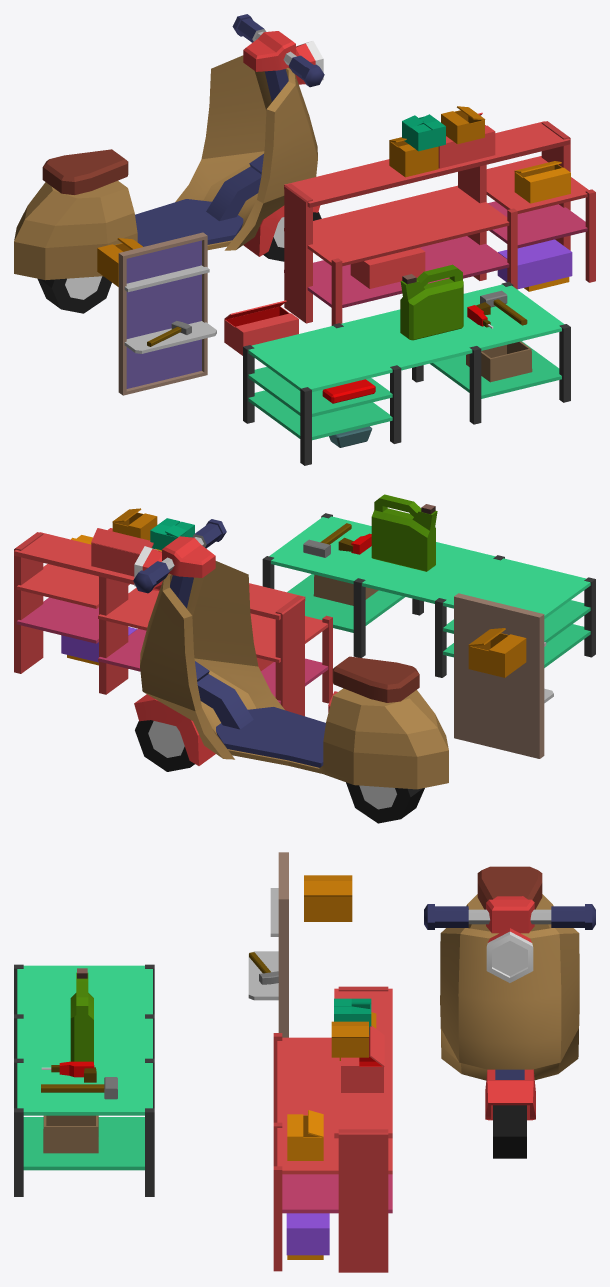
Rendered from Level12.fbx.
3 renders of one model, top to bottom at view 1: azimuth 30°, elevation 25°; view 2: azimuth 150°, elevation 25°; view 3: azimuth 270°, elevation 25°, orthographic. The views are drawn at different scales.
Visible parts, largest first — view 1: Bike, Box12, Tools_table, Tool_Stand3, Oil_Bottle6, Box8, Box5, Box7, Box11, pCube19, Box10, Box6 (+5 smaller); view 2: Bike, Box12, Tools_table, Tool_Stand3, Oil_Bottle6, Box13, Box6, Box, pCube19, Box9, Box5, Big_Hammer2 (+1 smaller); view 3: Bike, Tools_table, Box12, Tool_Stand3, Box13, pCube19, Box6, Oil_Bottle6, Box5, Box11, Box, Box9 (+2 smaller).
Boxes of the visible parts, left/top/right/bottom form: Bike: left=14, top=14, right=324, bottom=313; Box12: left=284, top=121, right=595, bottom=325; Tools_table: left=243, top=282, right=570, bottom=465; Tool_Stand3: left=118, top=232, right=216, bottom=395; Oil_Bottle6: left=400, top=264, right=463, bottom=340; Box8: left=224, top=300, right=298, bottom=355; Box5: left=497, top=239, right=572, bottom=289; Box7: left=350, top=247, right=425, bottom=288; Box11: left=514, top=161, right=570, bottom=203; pCube19: left=466, top=341, right=532, bottom=382; Box10: left=389, top=137, right=438, bottom=177; Box6: left=438, top=112, right=495, bottom=168; Bike: left=133, top=519, right=448, bottom=823; Box12: left=14, top=532, right=332, bottom=716; Tools_table: left=262, top=513, right=595, bottom=677; Tool_Stand3: left=454, top=593, right=553, bottom=758; Oil_Bottle6: left=371, top=494, right=437, bottom=571; Box13: left=468, top=628, right=526, bottom=677; Box6: left=91, top=528, right=153, bottom=576; Box: left=112, top=508, right=157, bottom=540; pCube19: left=313, top=574, right=378, bottom=605; Box9: left=150, top=518, right=194, bottom=550; Box5: left=61, top=627, right=137, bottom=662; Big_Hammer2: left=303, top=523, right=351, bottom=557; Bike: left=424, top=866, right=595, bottom=1158; Tools_table: left=14, top=964, right=154, bottom=1196; Box12: left=273, top=986, right=392, bottom=1272; Tool_Stand3: left=248, top=852, right=288, bottom=1037; Box13: left=304, top=875, right=352, bottom=921; pCube19: left=43, top=1115, right=98, bottom=1153; Box6: left=341, top=1025, right=384, bottom=1092; Oil_Bottle6: left=70, top=968, right=93, bottom=1062; Box5: left=286, top=1213, right=329, bottom=1255; Box11: left=287, top=1110, right=323, bottom=1160; Box: left=331, top=1021, right=368, bottom=1057; Box9: left=334, top=998, right=371, bottom=1034.
Size of the model in its own units: 10.92 by 4.81 by 10.03.
